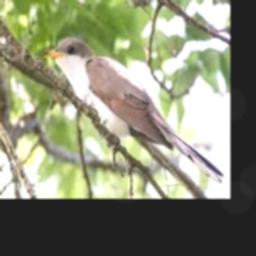Cuckoo: (40, 38, 224, 183)
